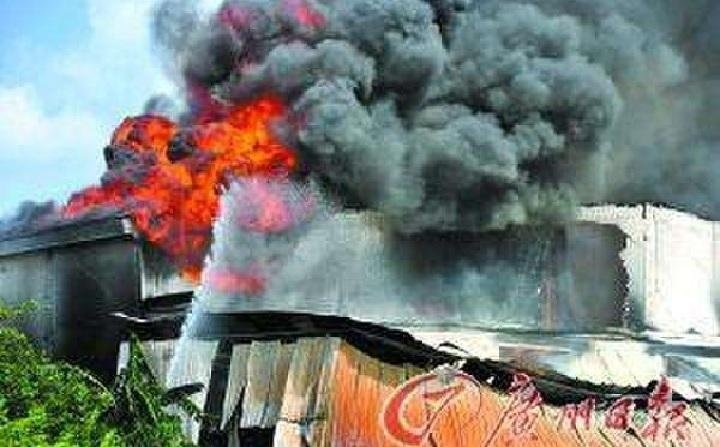fire: (70, 90, 300, 275)
